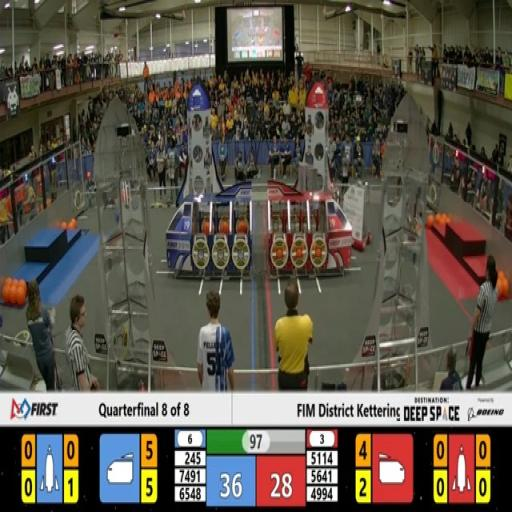robot: (334, 179, 374, 253)
